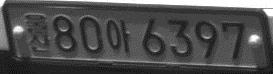0: (78, 14, 103, 53)
3: (167, 18, 193, 59)
6: (140, 17, 165, 56)
7: (220, 19, 246, 61)
8: (51, 13, 76, 51)
9: (194, 19, 219, 59)
아: (105, 17, 132, 55)
울산_V: (23, 11, 51, 53)
